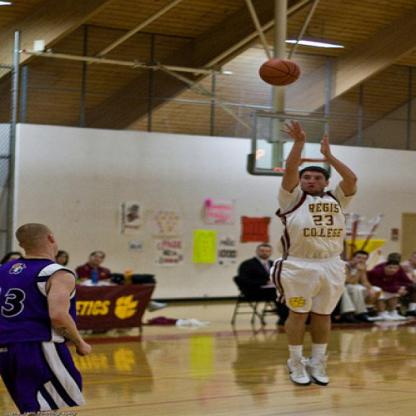basketball: (259, 59, 301, 85)
